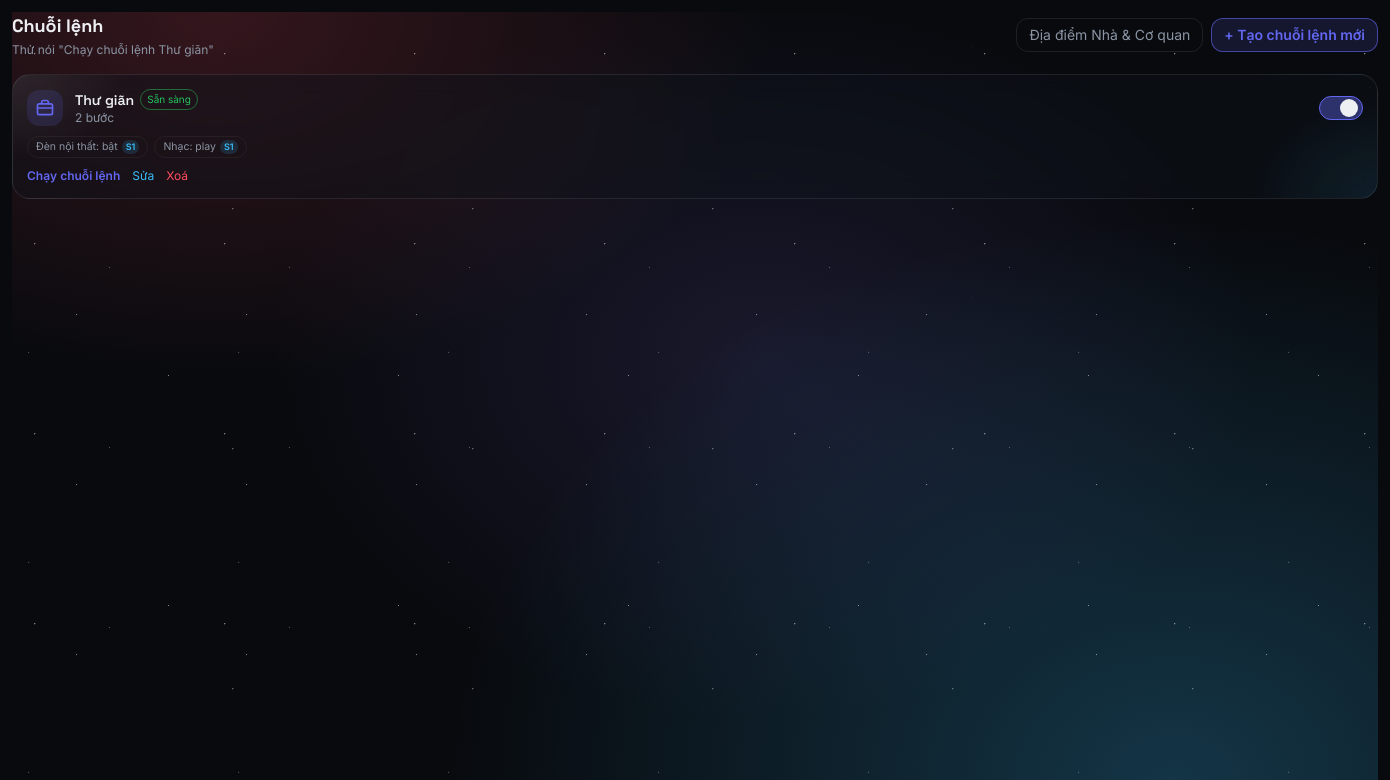
Test: RoutinesView — chạy Routine, panel tiến độ (#292) › bấm Chạy chuỗi lệnh gọi runRoutine đúng id/sessionId, mở panel với x/y từ routine.steps đã có sẵn
Click the button "Chạy chuỗi lệnh": (74, 176) [27, 168, 120, 184]
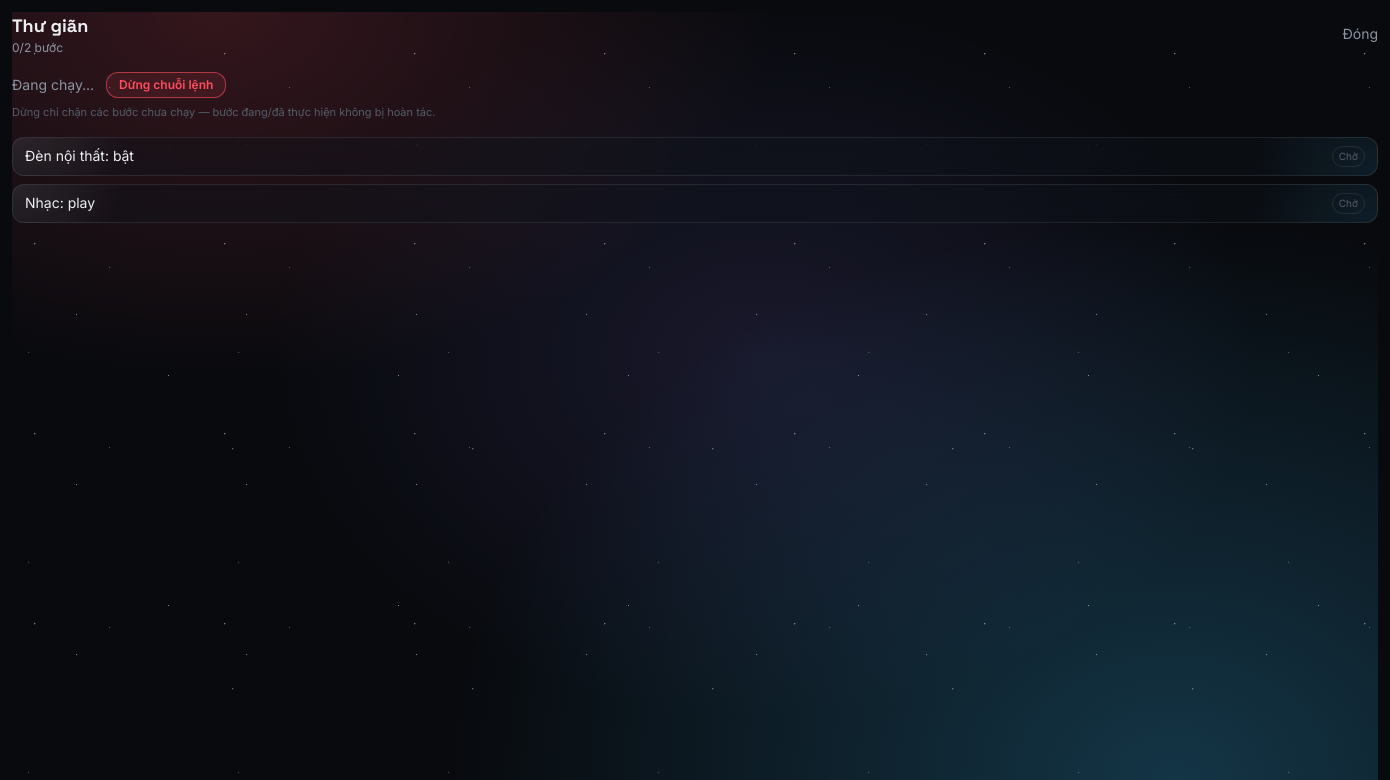
Check: the heading "Thư giãn" is shown, box [12, 12, 88, 40]
Check: the text "0/2 bước" is shown, box [12, 40, 63, 55]
Check: the text "Chờ" is shown 2 times, box [1332, 146, 1365, 166]; [1332, 192, 1365, 214]
